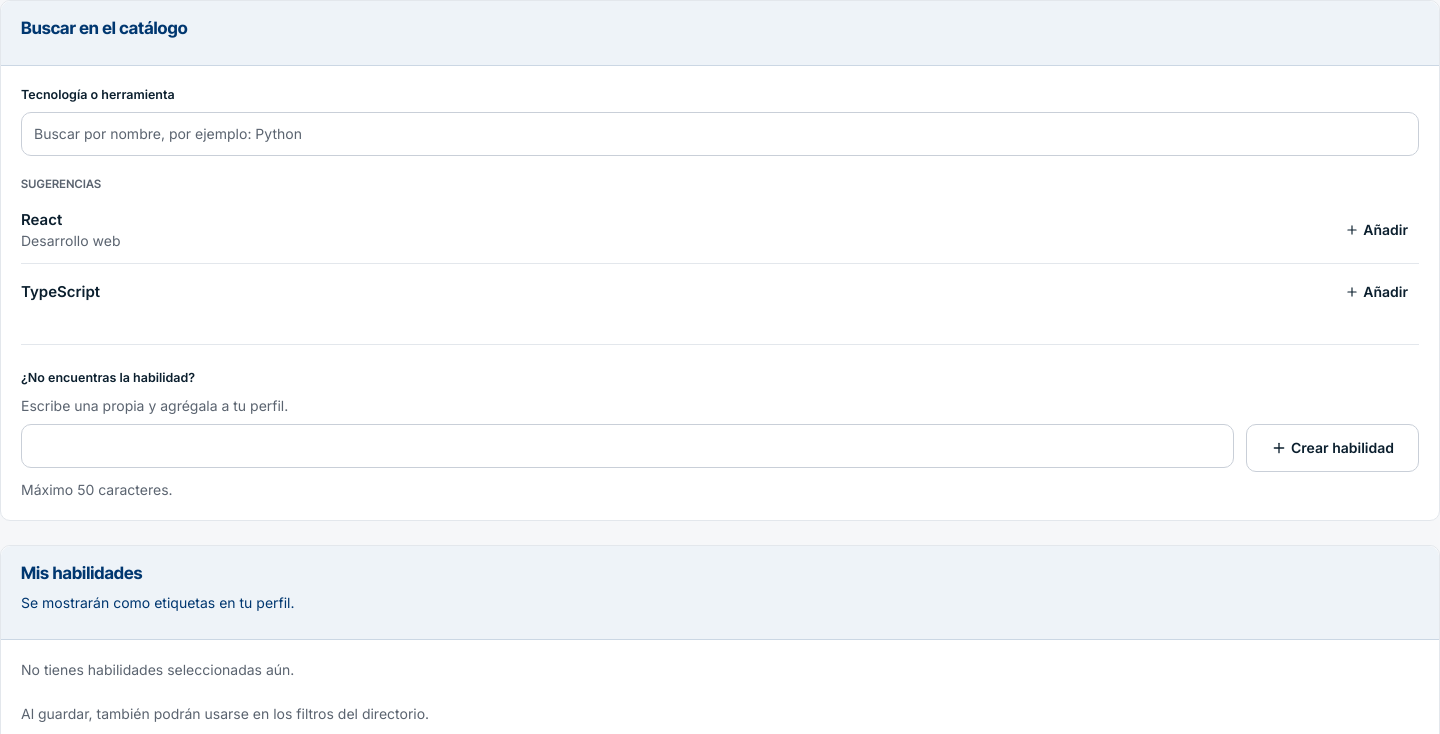
Test: SkillsSelector › does not create a custom skill with an empty name
The width and height of the screenshot is (1440, 734).
Step 1. Click the button "Crear habilidad" → (1332, 448), box left=1246, top=424, right=1419, bottom=472
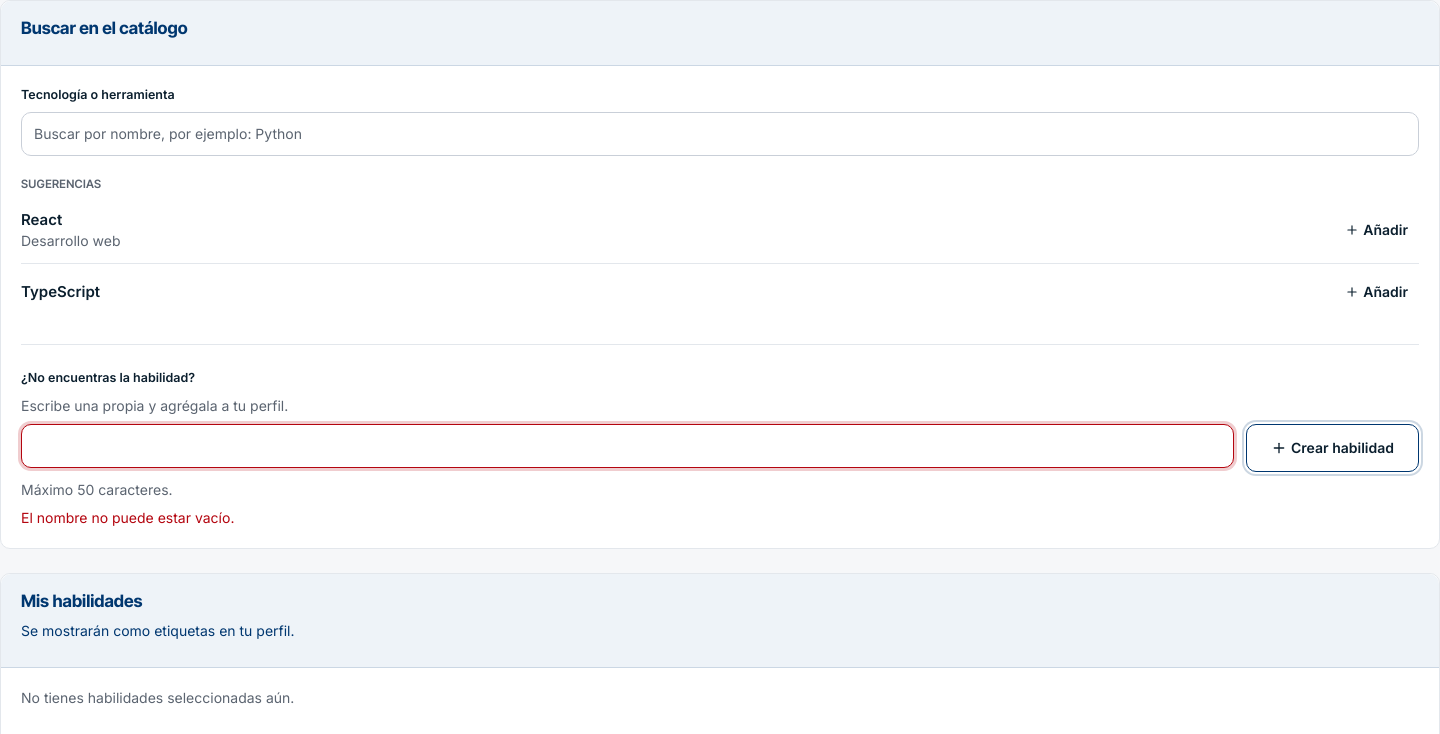
Now the text "El nombre no puede estar vacío." is shown, box left=21, top=509, right=234, bottom=526
